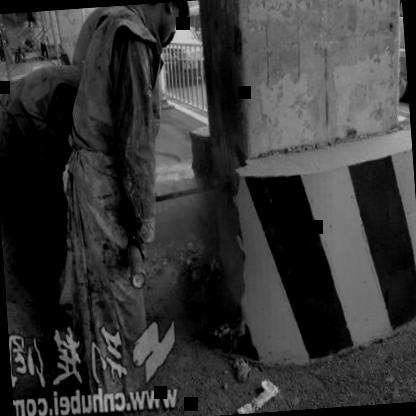helmet: (130, 1, 196, 44)
